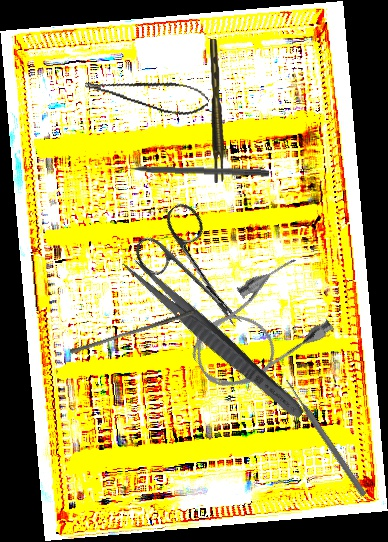Cannula: (174, 251, 342, 406)
Dressing Forceps: (116, 252, 310, 424)
Iris Scissors: (126, 198, 269, 348)
Micro Scissor: (83, 59, 212, 123)
Pusher: (282, 377, 369, 498), (69, 305, 195, 359), (109, 162, 270, 177)
Tissue Forceps: (210, 39, 224, 183)
